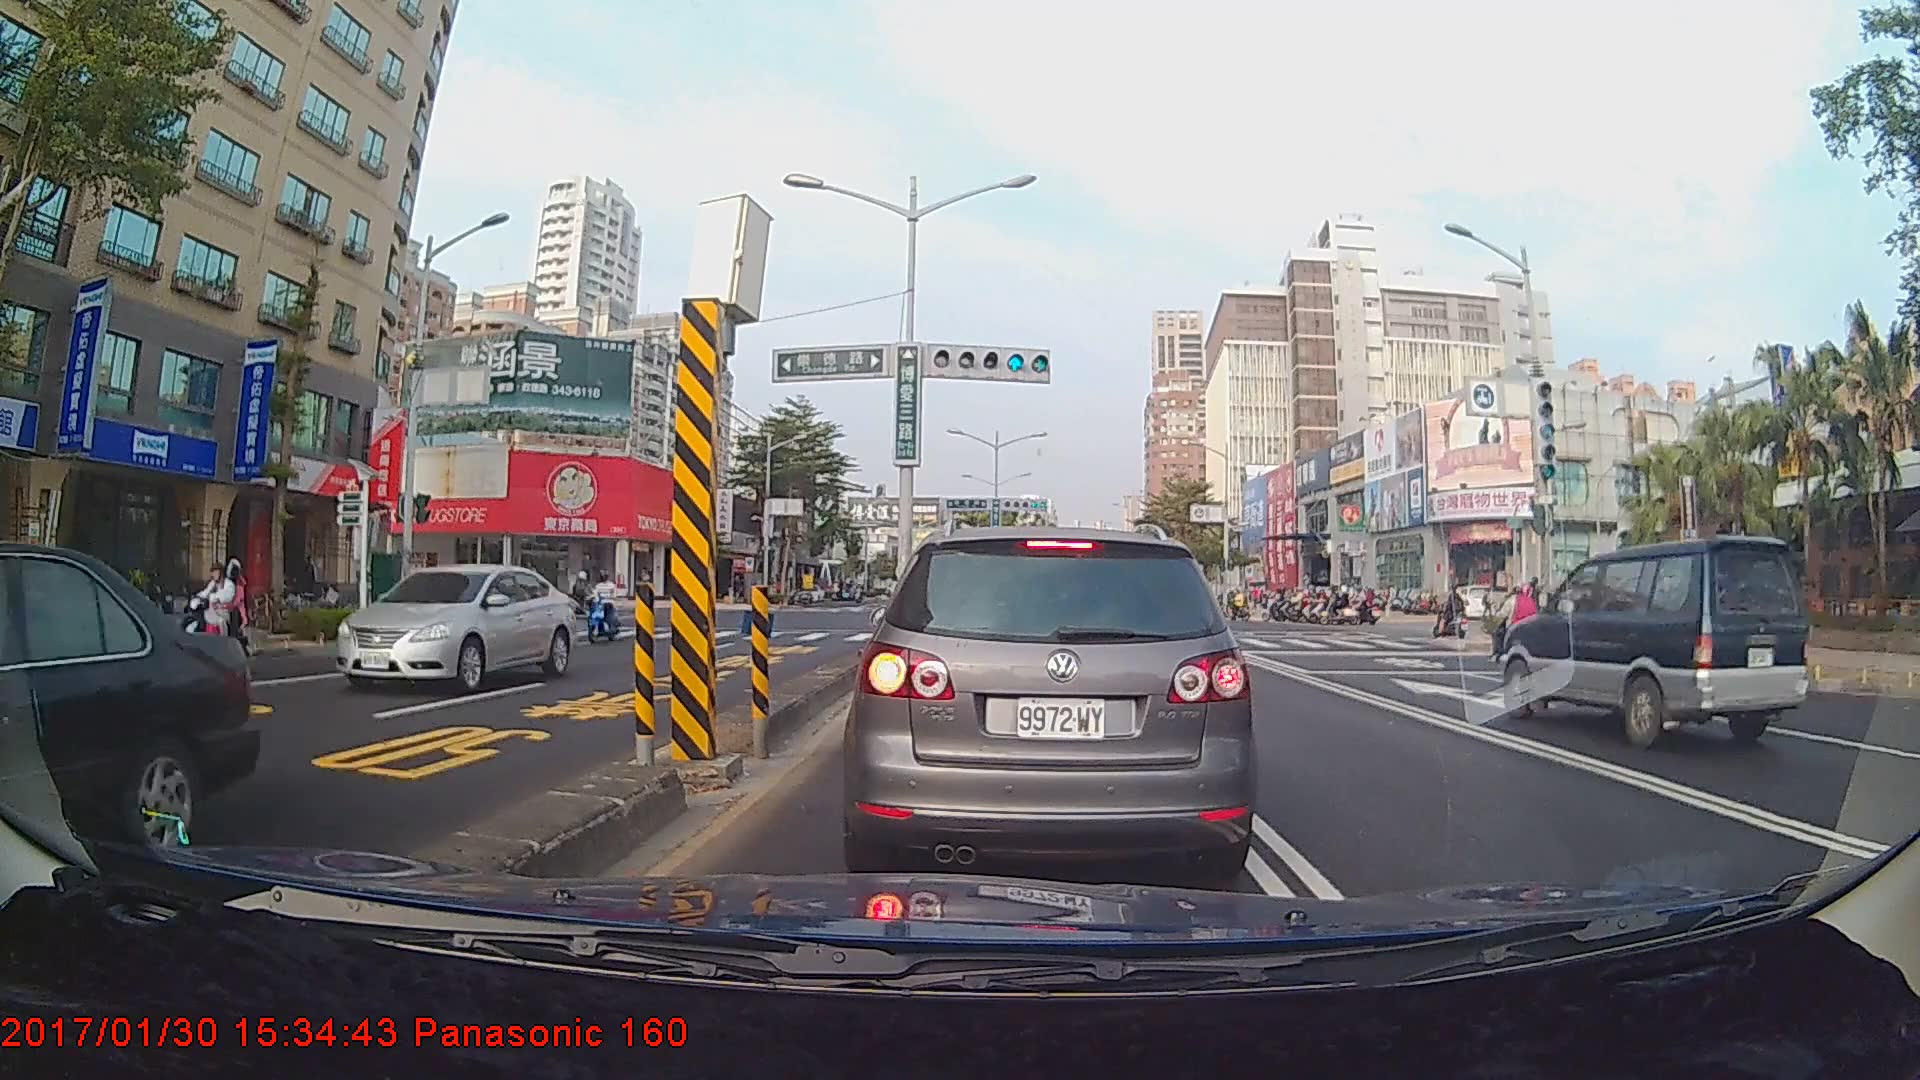rider: (1485, 582, 1548, 668), (1436, 582, 1473, 646)
vehicle: (850, 521, 1249, 883), (0, 538, 258, 927), (1498, 532, 1808, 747), (327, 564, 581, 691)
